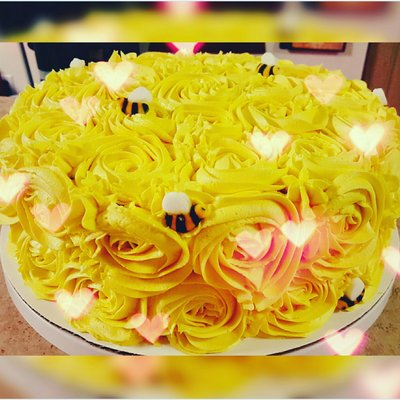sushi: (0, 49, 396, 348)
